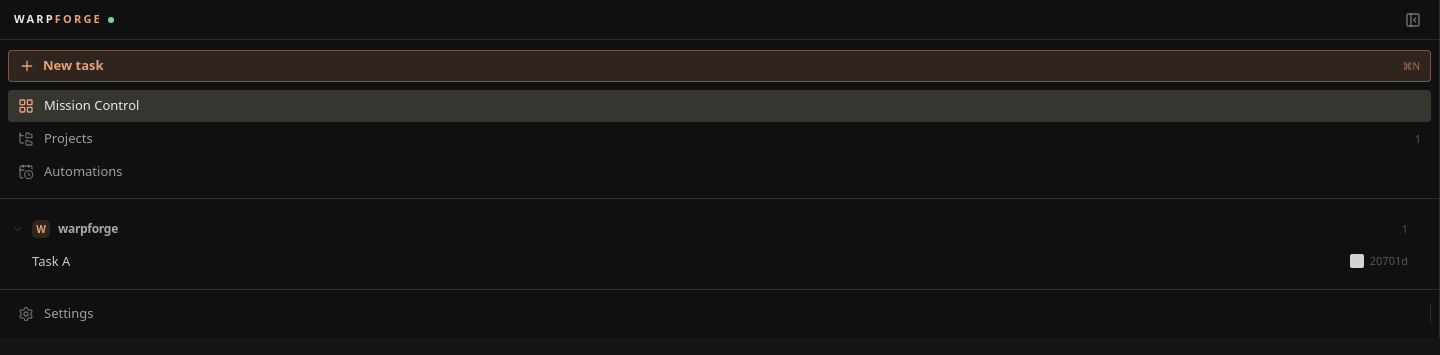
Test: Sidebar workspace tree › collapses a project group and restores it
This screenshot has width=1440, height=355.
What coordinates should you click on to do the following:
click the button "w warpforge 1"
I would click on:
 (88, 228)
Its box is [8,215,1416,243].
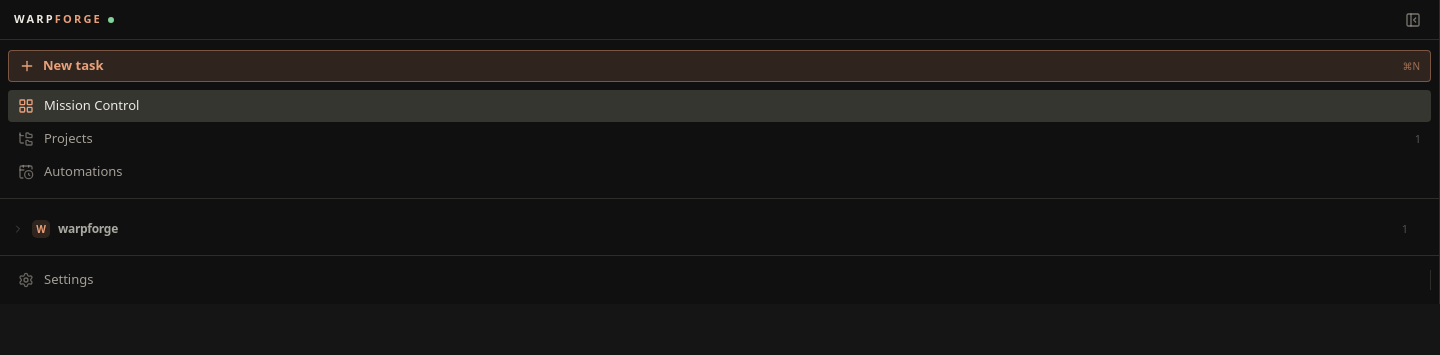
Check: the button "Task A" is gone
What coordinates should you click on to do the following:
click the button "w warpforge 1"
I would click on:
 (88, 228)
Its box is [8,215,1416,243].
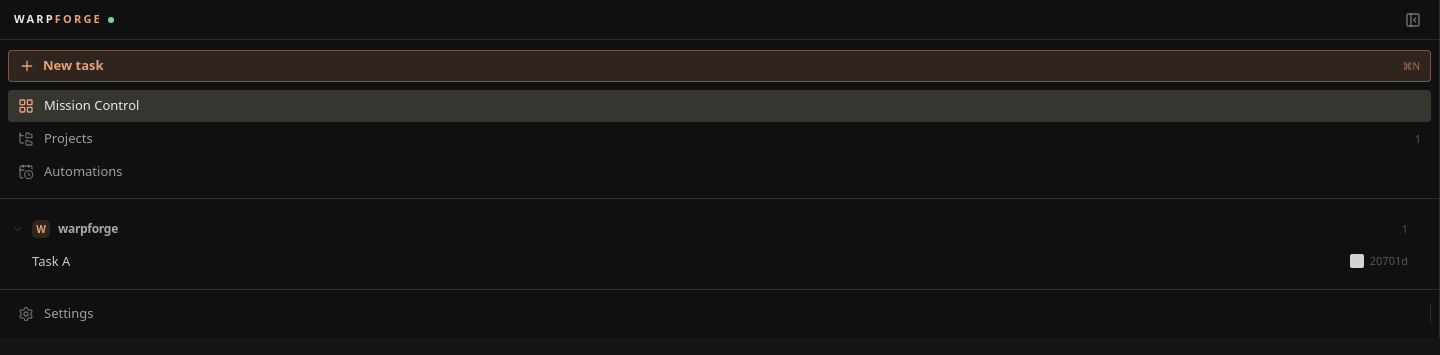
Check: the text "Task A" is shown, box [32,252,70,270]
